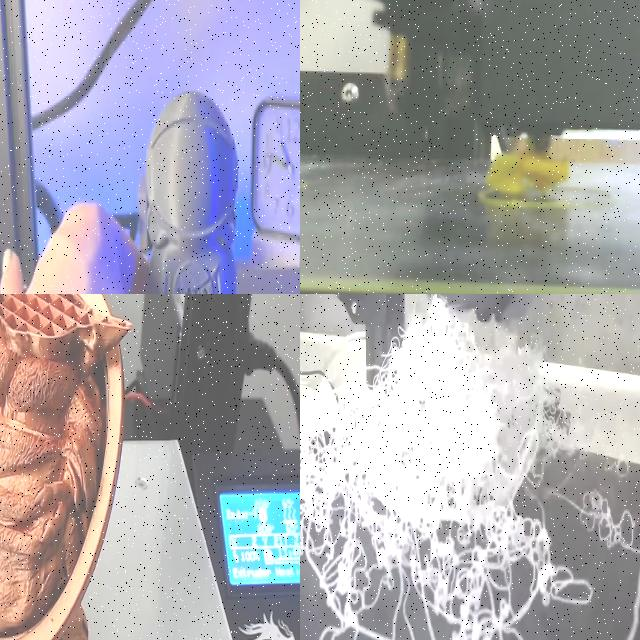spaghetti: (300, 295, 640, 640), (479, 144, 577, 204)
